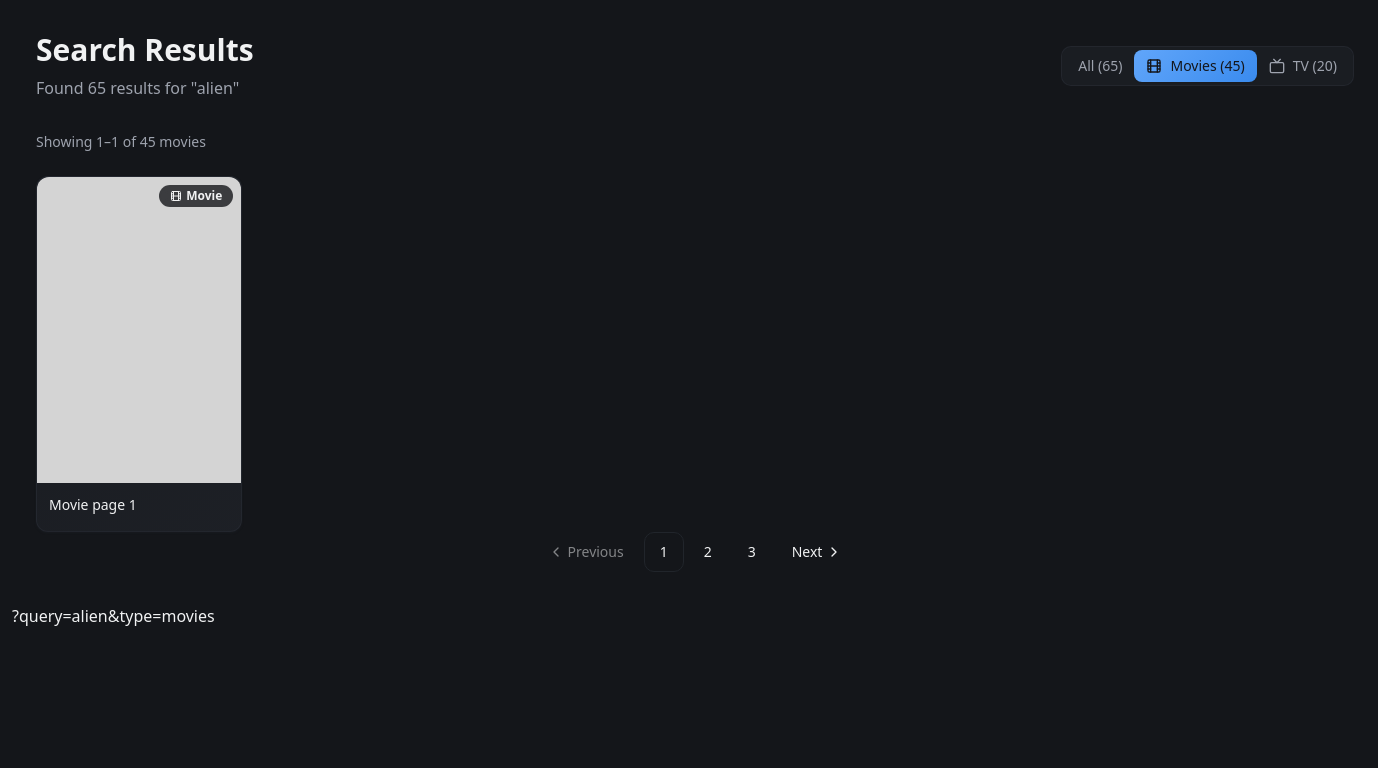
Test: Discover pagination › forwards page two and displays upstream totals
The image size is (1378, 768).
Expected: the heading "Movie page 1" is shown, top-left (49, 496), bottom-right (137, 514)
What coordinates should you click on to do the following:
click the button with aria-label "Go to next page"
I would click on:
 (814, 552)
Its box is top-left (776, 532), bottom-right (852, 572).
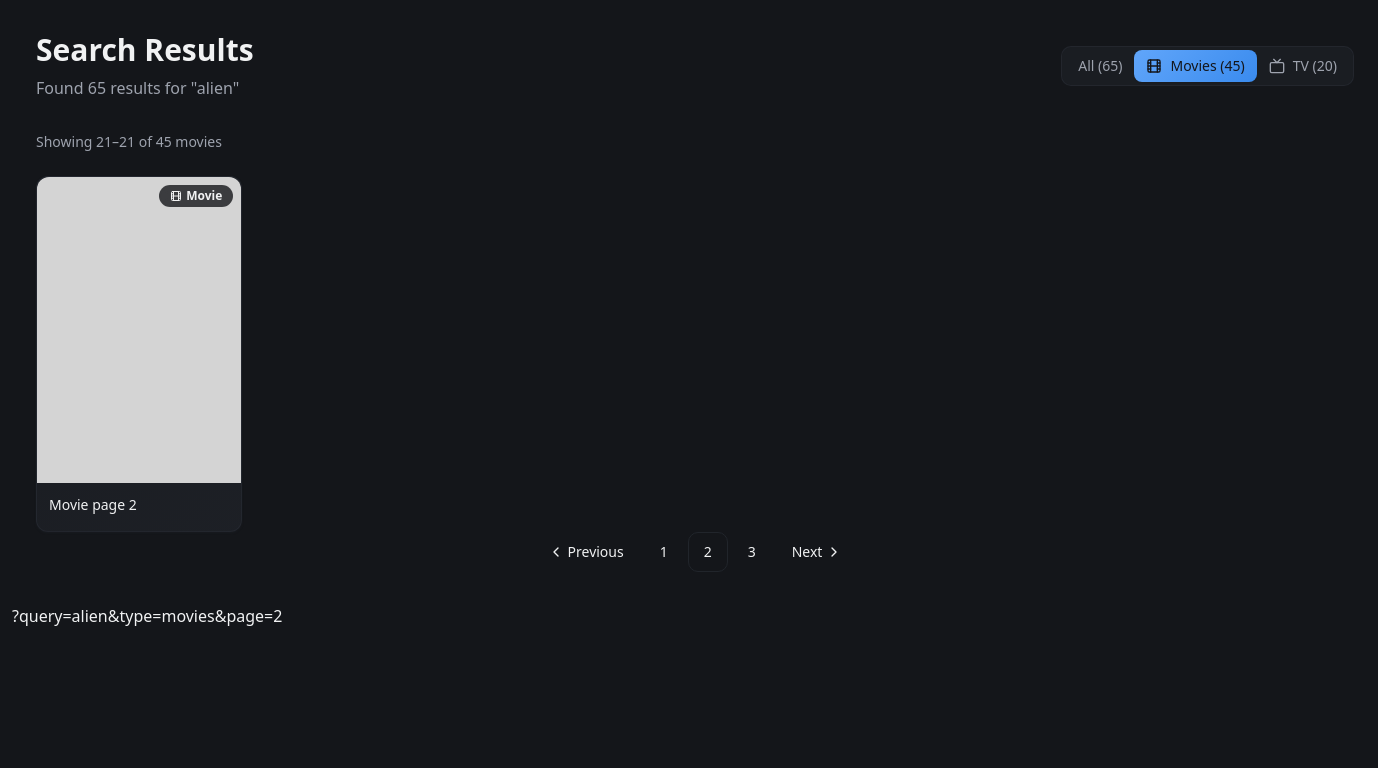
Expected: the heading "Movie page 2" is shown, top-left (49, 496), bottom-right (137, 514)
Expected: the text with test id "location" shows "page=2", top-left (12, 606), bottom-right (282, 628)
Expected: the text "Showing 21–21 of 45 movies" is shown, top-left (36, 132), bottom-right (222, 151)
